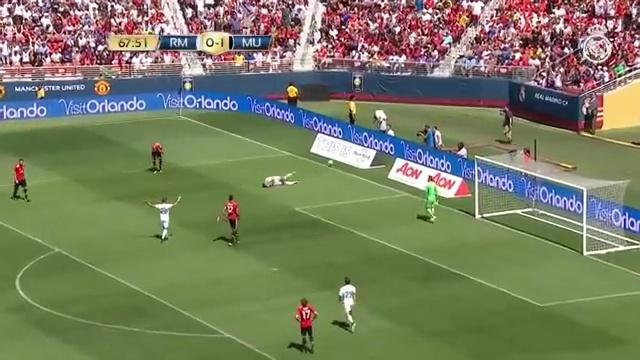football: (327, 160, 332, 166)
player: (145, 196, 180, 241), (295, 298, 317, 352), (217, 195, 239, 245), (338, 277, 355, 331), (12, 159, 29, 201), (424, 176, 437, 221), (262, 172, 297, 187), (151, 142, 163, 173)
